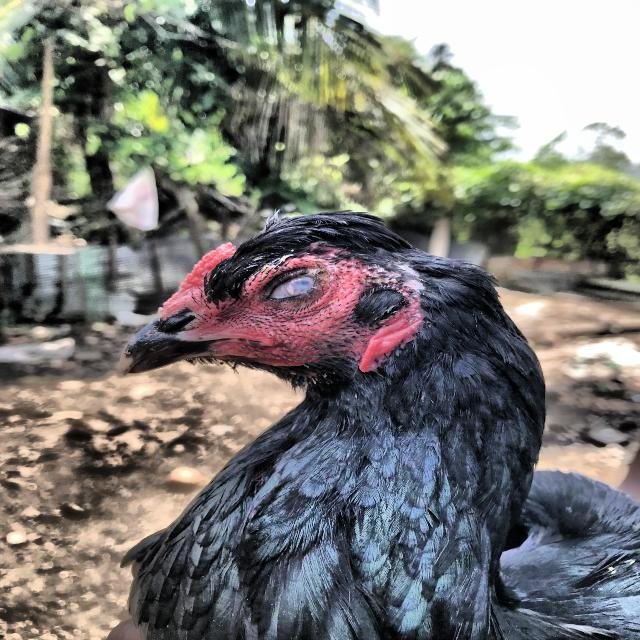Coryza: (83, 183, 640, 640)
